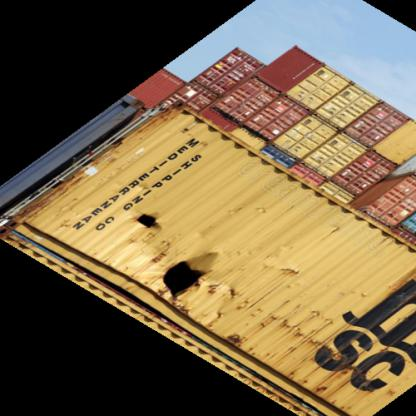Damage: (221, 285, 321, 345), (155, 248, 210, 306), (122, 195, 171, 244)
